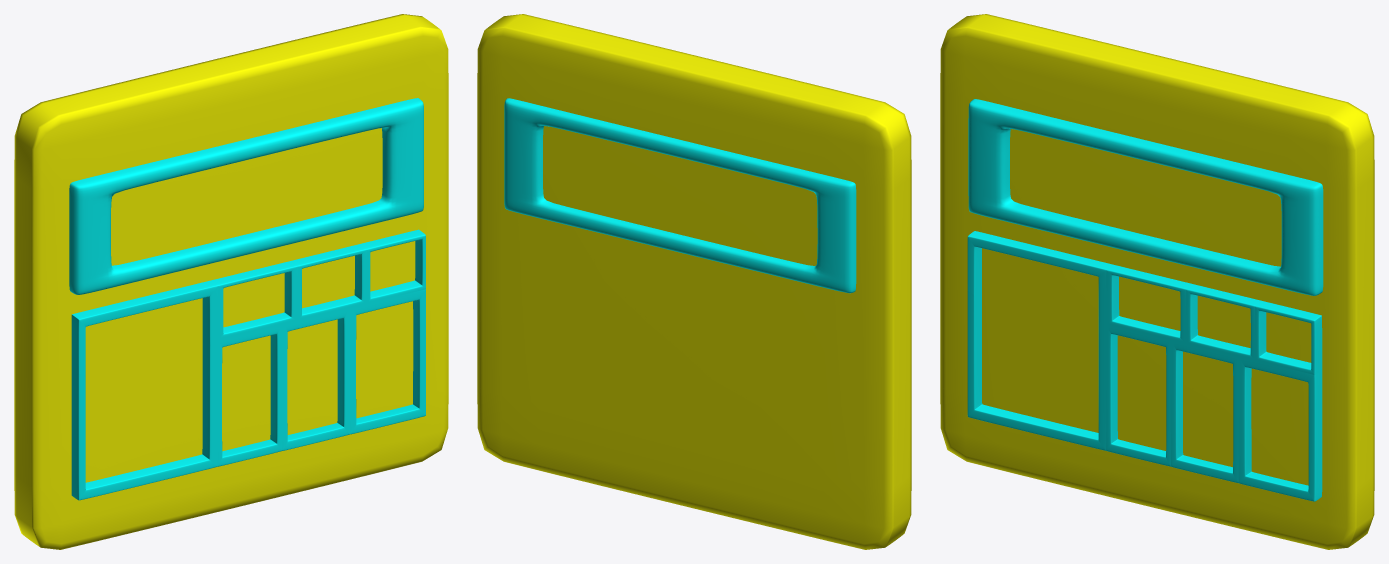
The picture shows the model from 3 angles, left to right: view 1: azimuth 30°, elevation 25°; view 2: azimuth 150°, elevation 25°; view 3: azimuth 330°, elevation 25°; orthographic projection.
Visible parts, largest first — view 1: pasted__pCube470; view 2: pasted__pCube470; view 3: pasted__pCube470.
Part boxes in pixels (x1=…): pasted__pCube470: x1=14, y1=14, x2=448, y2=549; pasted__pCube470: x1=477, y1=14, x2=911, y2=549; pasted__pCube470: x1=940, y1=14, x2=1374, y2=549.
Size of the model in its own units: 0.9994 by 0.9994 by 0.1498.
